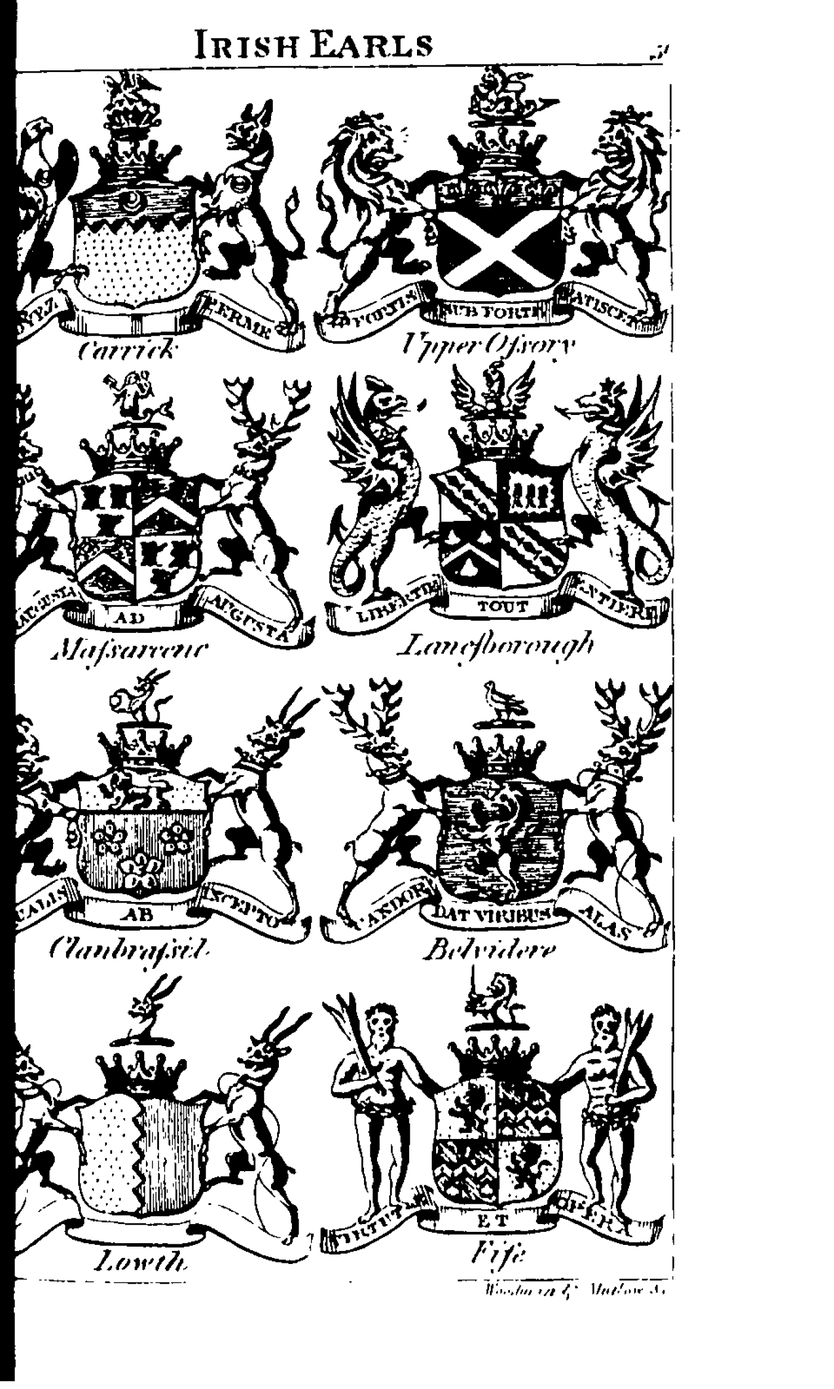coat_of_arms: (299, 965, 675, 1275), (310, 362, 671, 660), (313, 667, 668, 970), (310, 73, 672, 361), (15, 970, 316, 1284), (12, 669, 318, 964), (13, 371, 316, 666), (15, 72, 309, 370)
